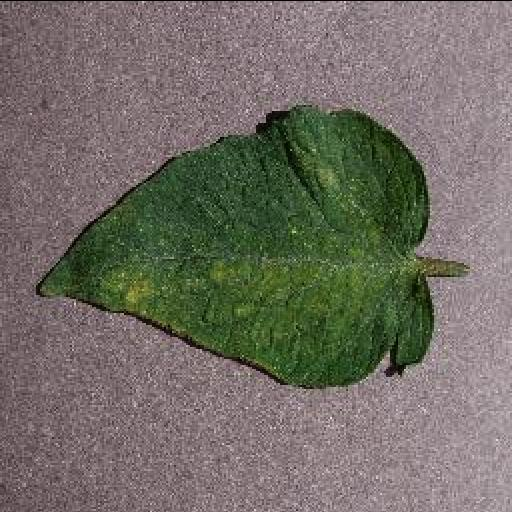disease_tomato: (32, 102, 434, 388)
